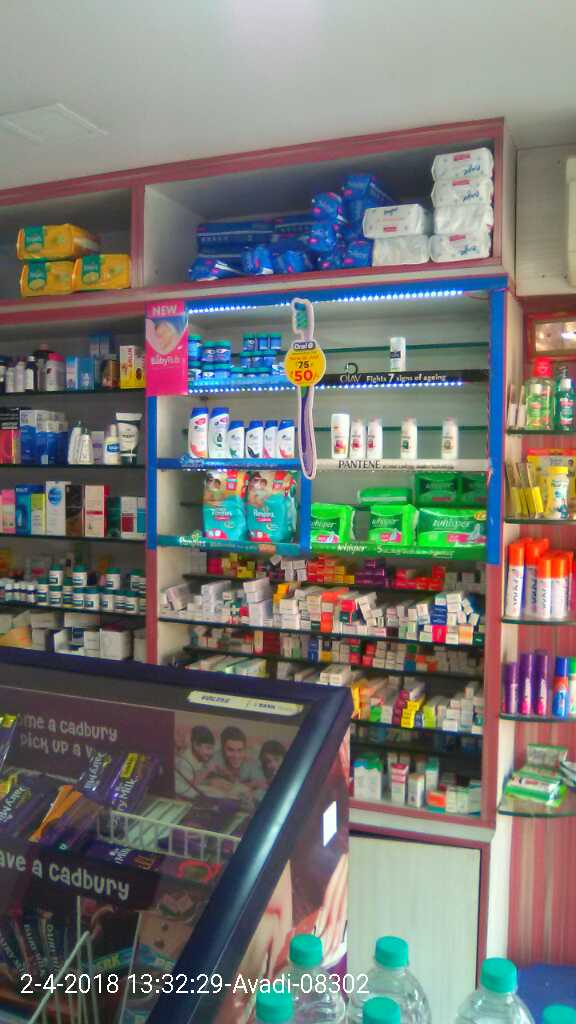vicks: (181, 329, 292, 382)
